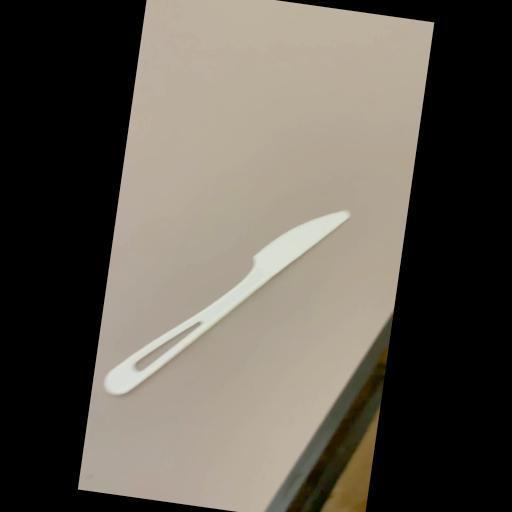utensil: (91, 162, 362, 438)
